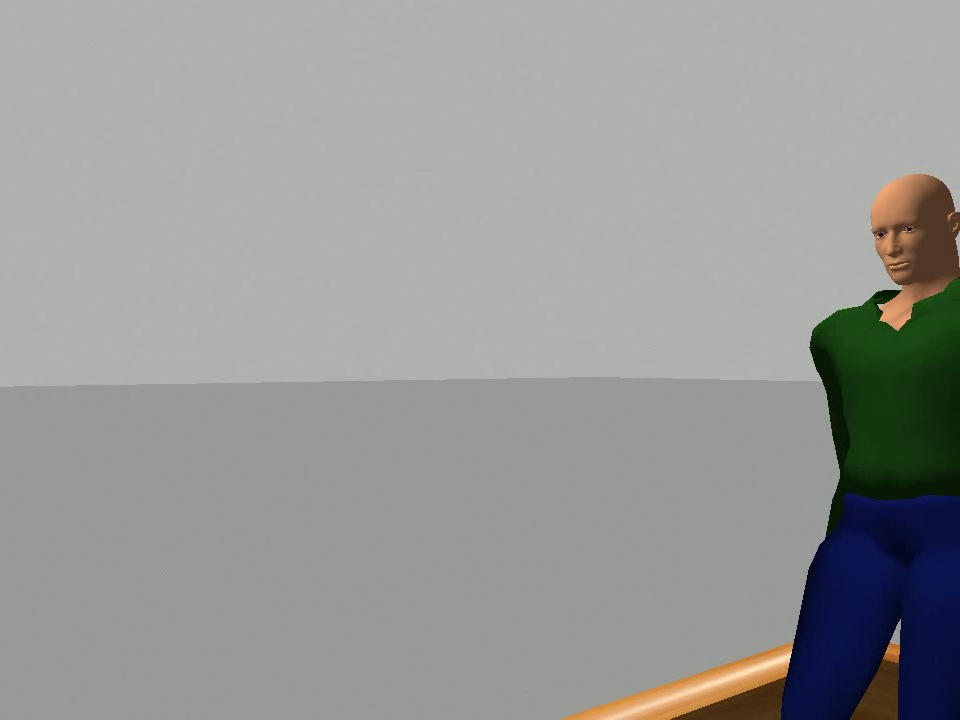person: (763, 171, 960, 720)
